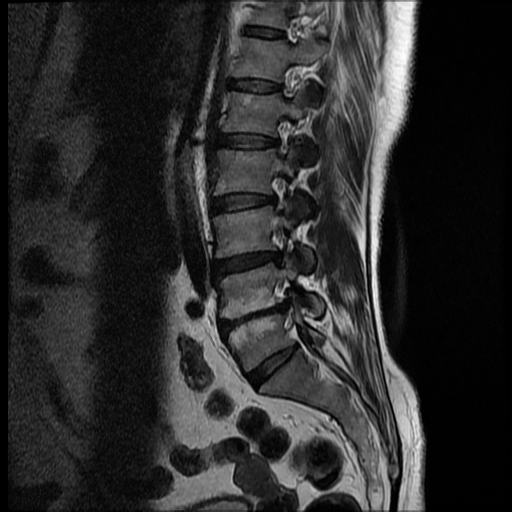RFS0: (258, 108, 305, 162), (255, 171, 302, 223)
RFS2: (257, 224, 301, 274)
